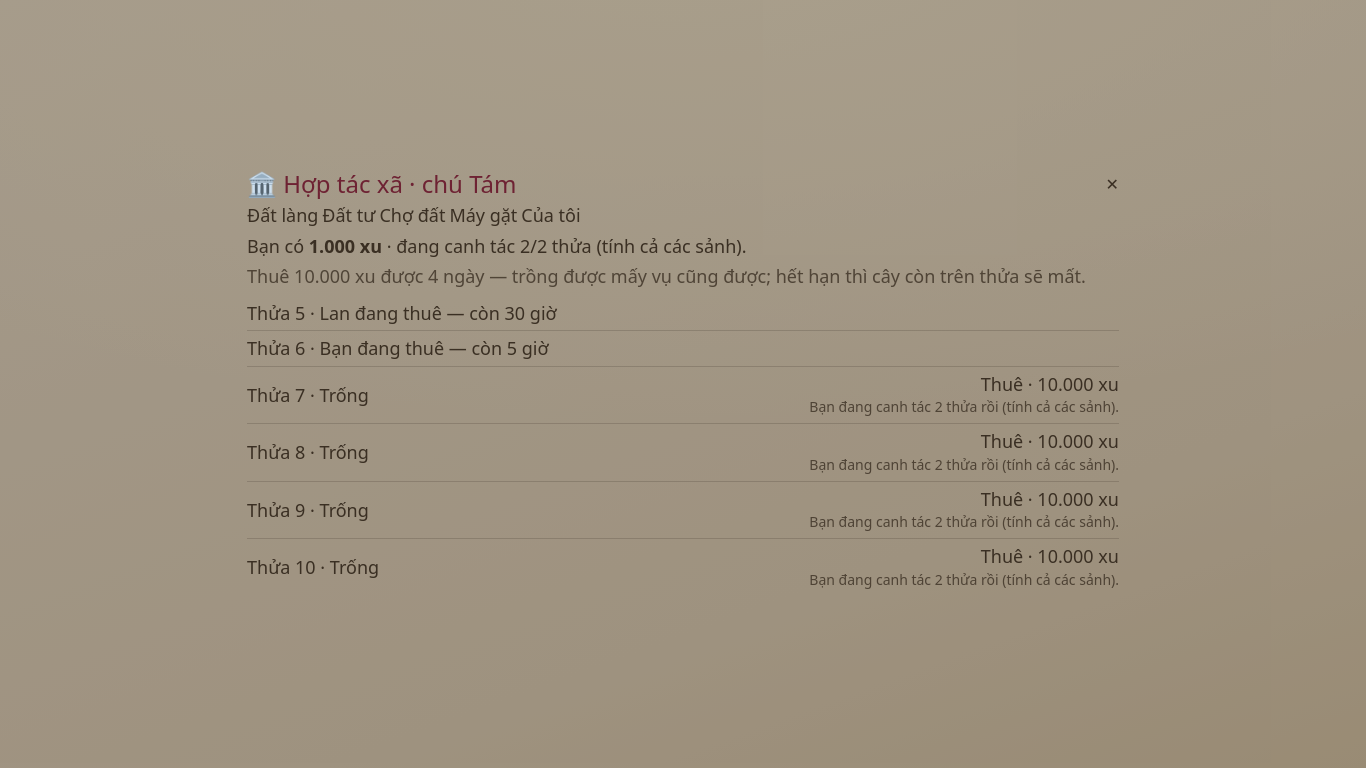
Test: CoopPanel › lists the private plots and who owns them
Click the tab "Đất tư". click: [349, 216]
box: left=322, top=204, right=375, bottom=227
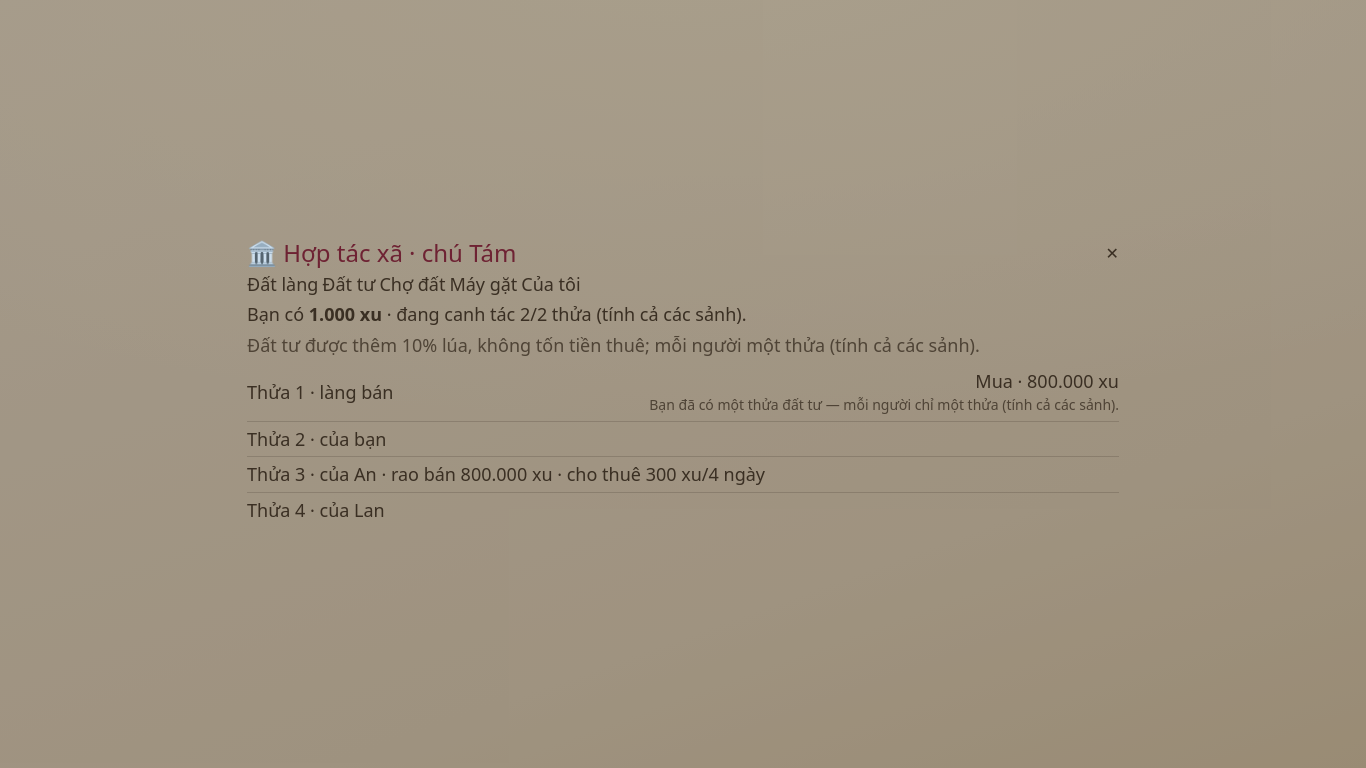
Expected: the button "Mua · 800.000 xu" is disabled, left=975, top=370, right=1119, bottom=393
Expected: the text "Bạn đã có một thửa đất tư — mỗi người chỉ một thửa (tính cả các sảnh)." is shown, left=649, top=395, right=1119, bottom=415
Expected: the text "Thửa 3 · của An · rao bán 800.000 xu · cho thuê 300 xu/4 ngày" is shown, left=247, top=462, right=765, bottom=486
